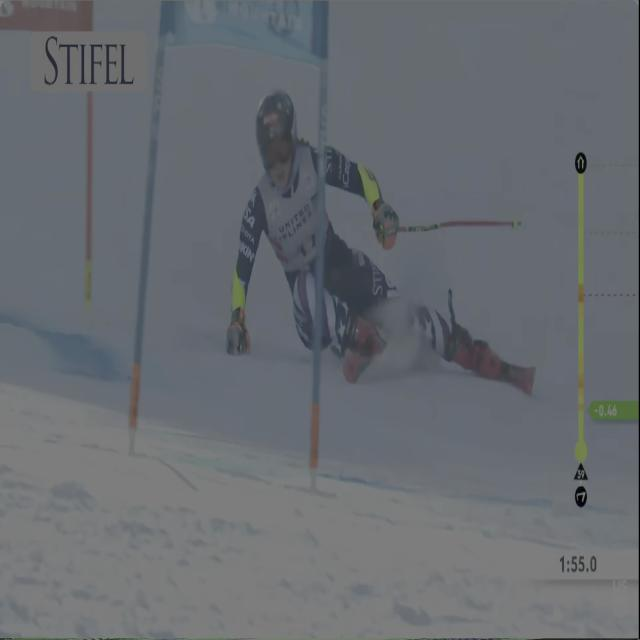gate: (128, 20, 182, 495), (76, 0, 104, 316)
